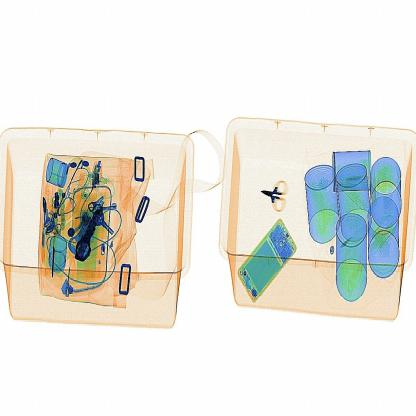gun: (261, 174, 295, 216)
